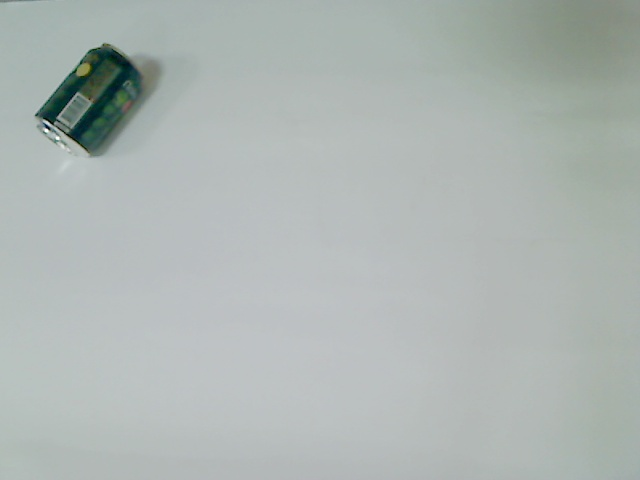can: (32, 41, 146, 160)
